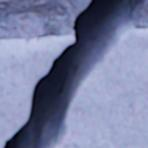broken_brick: (53, 28, 147, 147), (0, 34, 74, 147)
crack: (2, 0, 146, 147)
